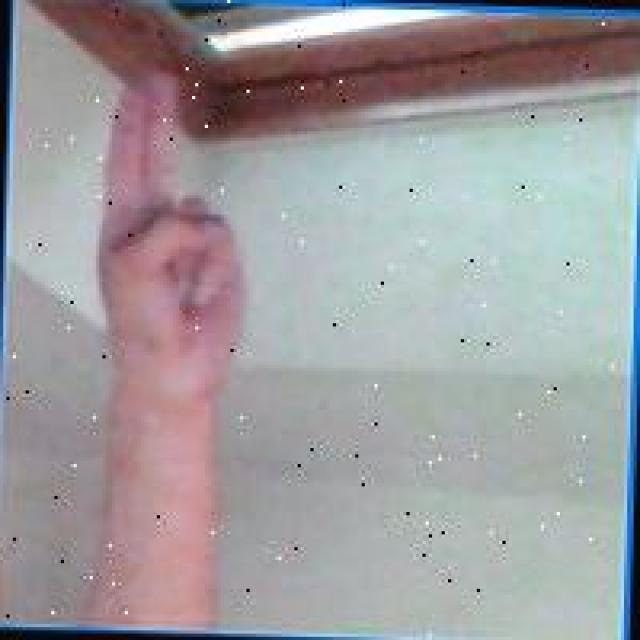U: (86, 66, 260, 404)
